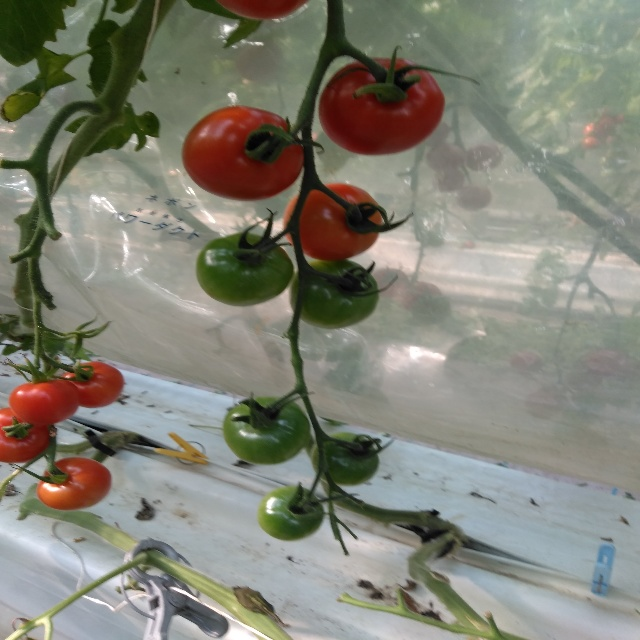l_fully_ripened: (318, 58, 446, 156), (180, 106, 305, 201), (283, 183, 382, 262), (9, 378, 81, 425), (60, 361, 124, 409), (0, 407, 50, 463), (216, 0, 309, 19)
l_green: (196, 232, 294, 307), (290, 259, 379, 330), (221, 396, 311, 466), (310, 432, 380, 486), (257, 486, 324, 541)
l_half_ripened: (36, 457, 113, 511)
